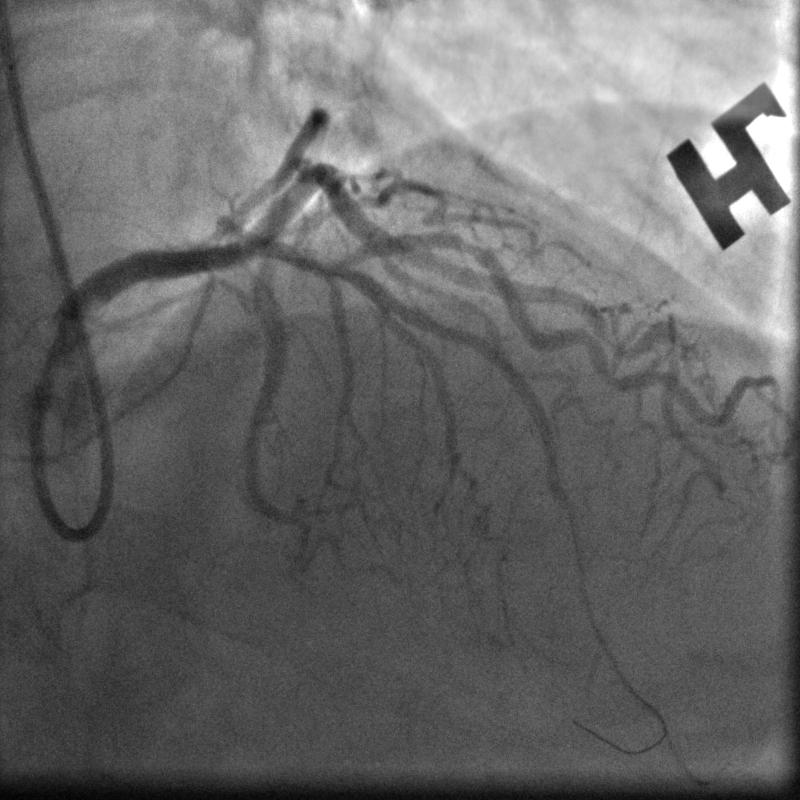Stenosis: (449, 227, 495, 266)
